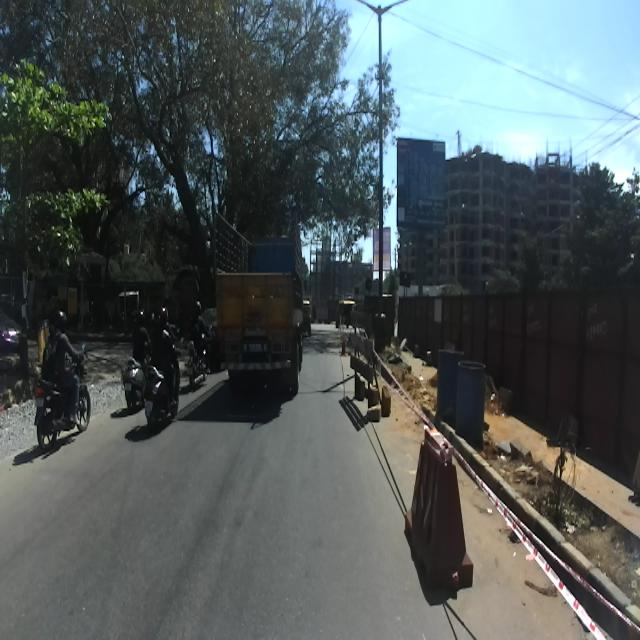barrier ahead at: (402, 420, 478, 589), (334, 333, 391, 434)
motorcycle ahead at: (33, 368, 90, 452), (138, 363, 184, 427)
truck ahead at: (206, 200, 307, 400)
